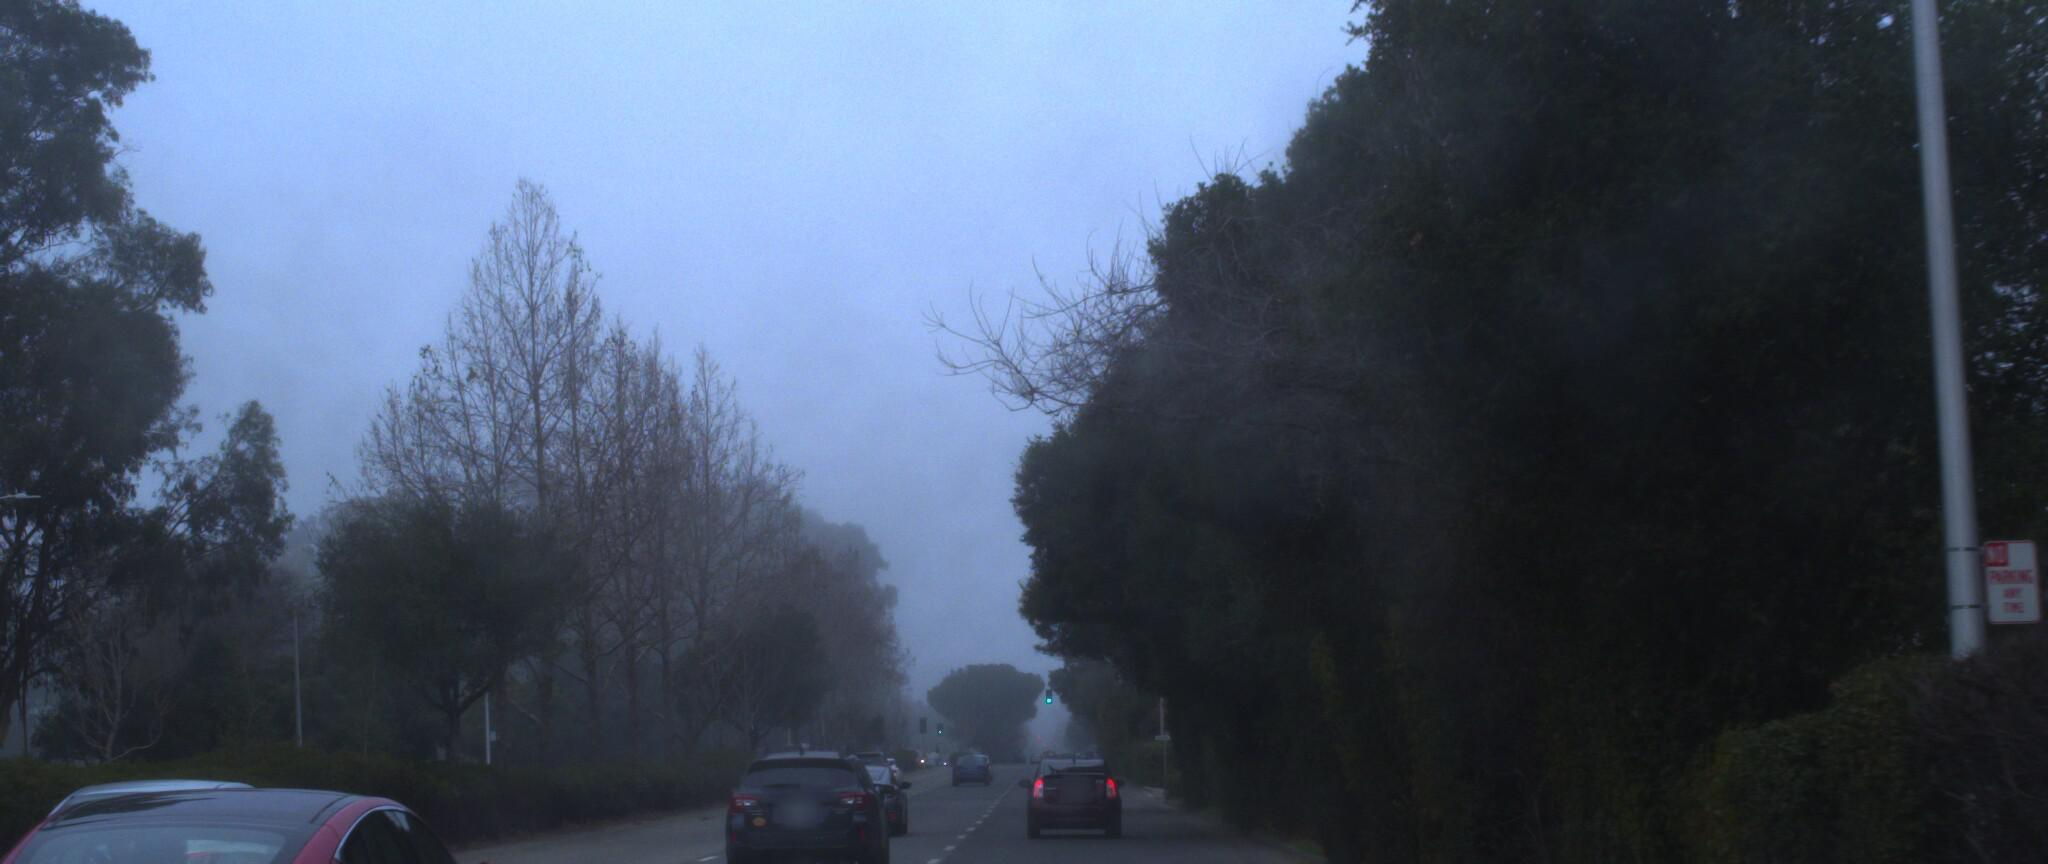car: (0, 783, 559, 864), (0, 761, 328, 864), (714, 730, 892, 864), (1012, 722, 1118, 826)
